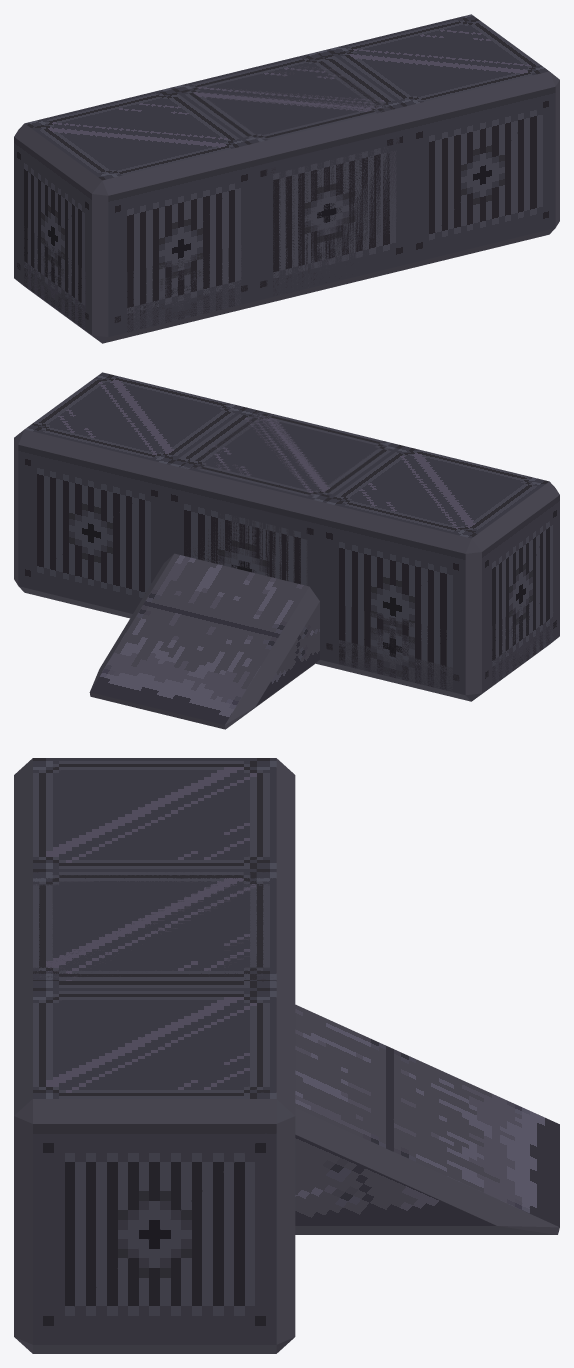
The model's file is hull.glb.
The picture shows the model from 3 angles, top to bottom: view 1: azimuth 30°, elevation 25°; view 2: azimuth 150°, elevation 25°; view 3: azimuth 270°, elevation 25°; orthographic projection. The views are drawn at different scales.
Visible parts, largest first — view 1: hull_block2, hull_block3, hull_half2, hull_wedge2; view 2: hull_block2, hull_block3, hull_wedge2, hull_half2; view 3: hull_block3, hull_block2, hull_wedge2.
Part boxes in pixels (x1=…): hull_block2: x1=14, y1=52, x2=399, y2=343; hull_block3: x1=172, y1=14, x2=559, y2=307; hull_half2: x1=14, y1=212, x2=381, y2=336; hull_wedge2: x1=264, y1=126, x2=397, y2=247; hull_block2: x1=178, y1=410, x2=559, y2=701; hull_block3: x1=14, y1=372, x2=401, y2=660; hull_wedge2: x1=89, y1=553, x2=319, y2=729; hull_half2: x1=320, y1=595, x2=559, y2=694; hull_block3: x1=14, y1=869, x2=295, y2=1353; hull_block2: x1=14, y1=758, x2=295, y2=989; hull_wedge2: x1=295, y1=1004, x2=559, y2=1234.
Bounding box in the file's own units: 3 × 1 × 1.94.
Materials: 1 (1 with a texture image).
